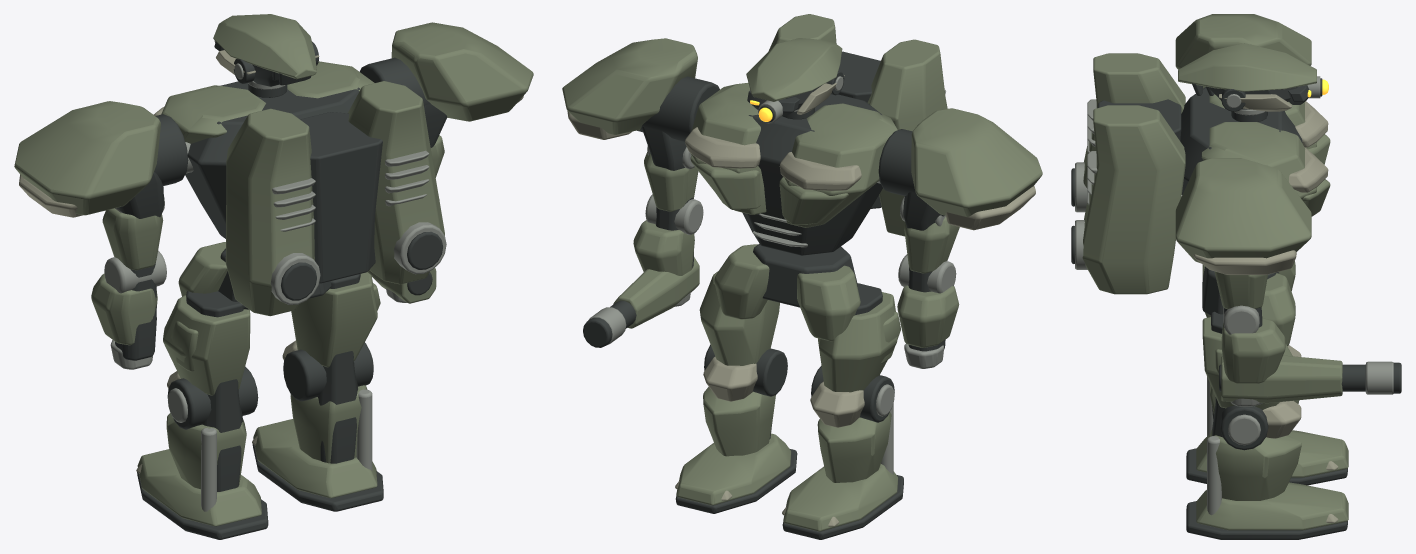
File: mech_b.glb
3 views of the same model, side by side, from view 1: azimuth 30°, elevation 25°; view 2: azimuth 150°, elevation 25°; view 3: azimuth 270°, elevation 25° (orthographic). The views are drawn at different scales.
Parts seen in each view (by area): view 1: BackPack, ShoulderL, LegL, LegR, ShoulderR, Torso, ArmL, FootR, Head, FootL, Hip, Barrel; view 2: Torso, ShoulderL, LegL, ShoulderR, LegR, Hip, BackPack, ArmL, FootR, FootL, ArmR, Head (+2 smaller); view 3: BackPack, ShoulderR, LegR, Torso, FootR, Head, Barrel, ArmR, ShoulderL, FootL, Hip, Visor (+1 smaller).
Boxes of the visible parts, x1,y1,x2,y2 form: BackPack: (225,81,446,316); ShoulderL: (14,101,188,218); LegL: (163,291,258,511); LegR: (282,272,380,470); ShoulderR: (359,22,533,147); Torso: (153,61,374,238); ArmL: (91,208,166,369); FootR: (252,419,383,511); Head: (213,14,319,97); FootL: (136,449,268,539); Hip: (178,242,331,309); Barrel: (367,268,436,303); Torso: (685,83,897,255); ShoulderL: (878,108,1042,230); LegL: (810,283,900,482); ShoulderR: (562,38,719,170); LegR: (699,271,787,456); Hip: (714,244,860,341); BackPack: (768,14,947,236); ArmL: (897,217,959,368); FootR: (675,433,797,513); FootL: (782,464,903,539); ArmR: (633,152,703,306); Head: (746,38,844,119); BackPack: (1071,53,1185,294); ShoulderR: (1175,158,1311,274); LegR: (1202,311,1301,515); Torso: (1180,86,1330,216); FootR: (1186,482,1348,539); Head: (1178,43,1316,121); Barrel: (1219,355,1401,403); ArmR: (1214,271,1285,406); ShoulderL: (1175,14,1311,86); FootL: (1186,430,1348,485); Hip: (1202,261,1295,345); Visor: (1288,76,1328,104).
Size of the model in its own units: 4.61 by 4.32 by 2.91.
